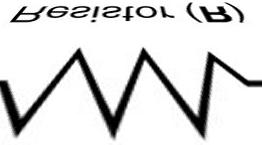resistor: (0, 46, 246, 135)
